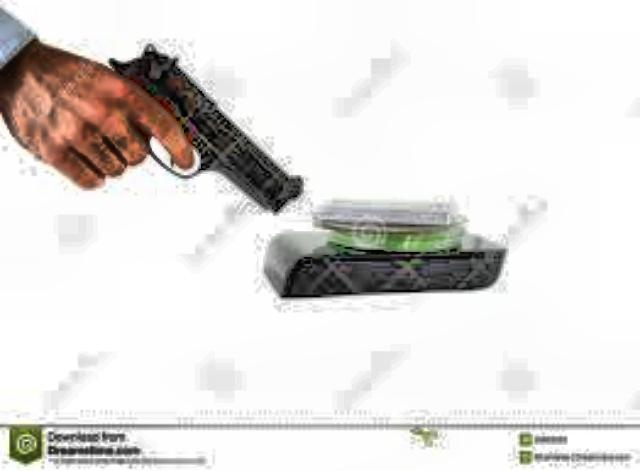pistol: (61, 32, 305, 222)
